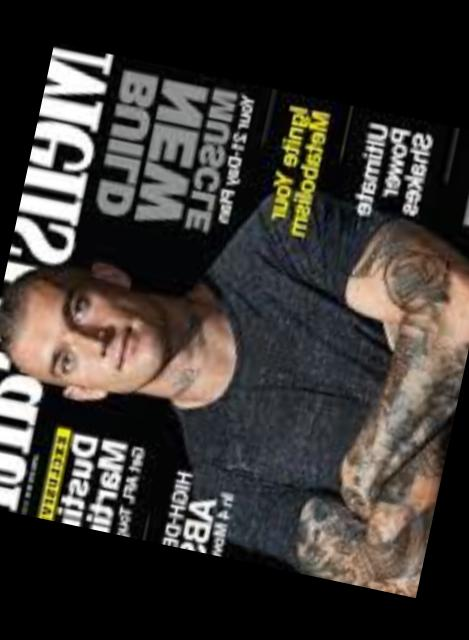cardboard paper: (0, 42, 469, 598)
